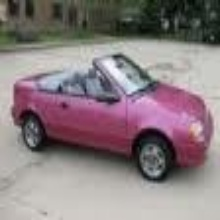no damage: (10, 53, 215, 182)
